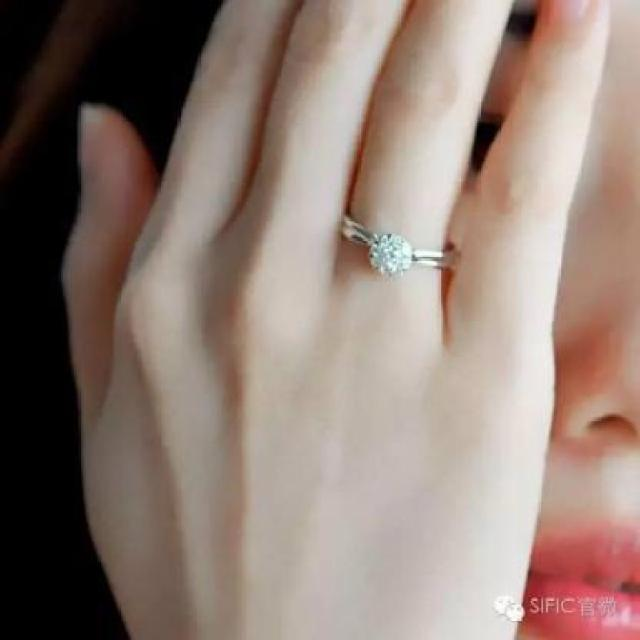hand_noglove: (62, 1, 616, 639)
